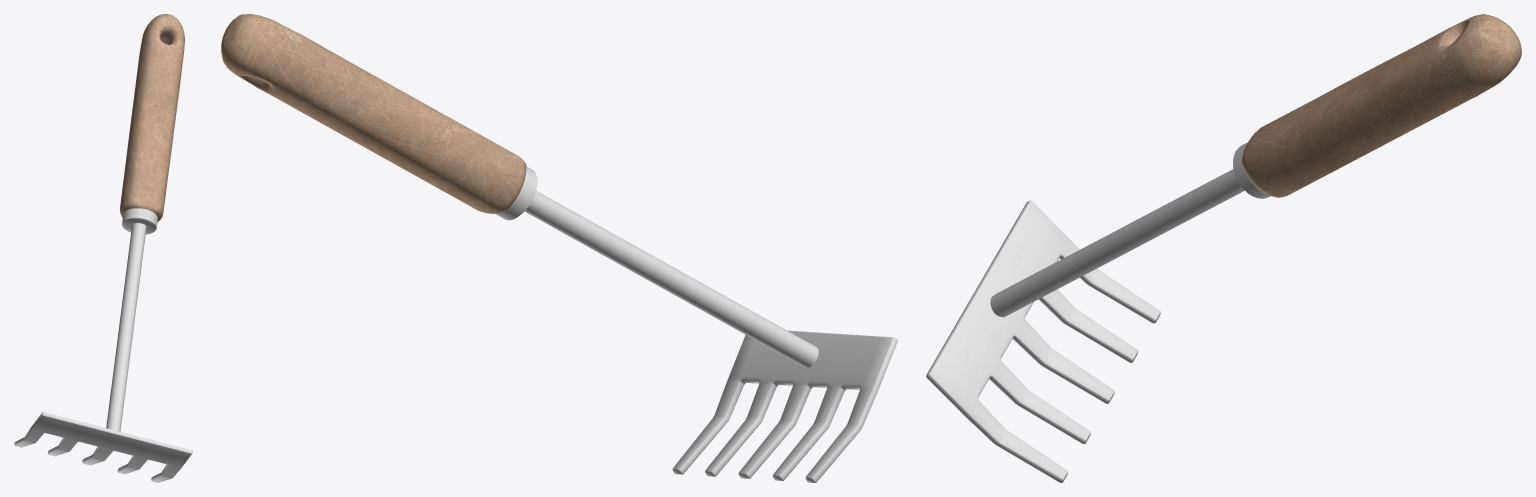
The model's file is manure-transformed.glb.
3 views of the same model, side by side, from view 1: azimuth 30°, elevation 25°; view 2: azimuth 150°, elevation 25°; view 3: azimuth 270°, elevation 25° (orthographic). The views are drawn at different scales.
Visible parts, largest first — view 1: HandRake_HandRake_0; view 2: HandRake_HandRake_0; view 3: HandRake_HandRake_0.
Part boxes in pixels (<box>): HandRake_HandRake_0: <box>14,14,192,482</box>; HandRake_HandRake_0: <box>221,14,897,482</box>; HandRake_HandRake_0: <box>926,14,1521,482</box>.
Bounding box in the file's own units: 0.1988 × 0.2361 × 0.222.
1 material, 1 textured.
